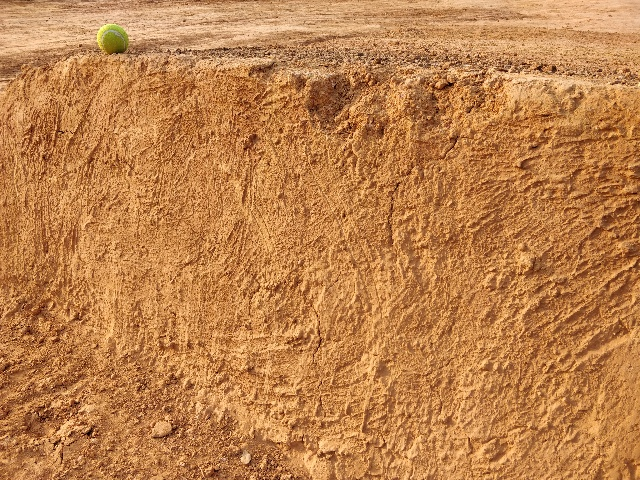ball: (95, 23, 132, 56)
